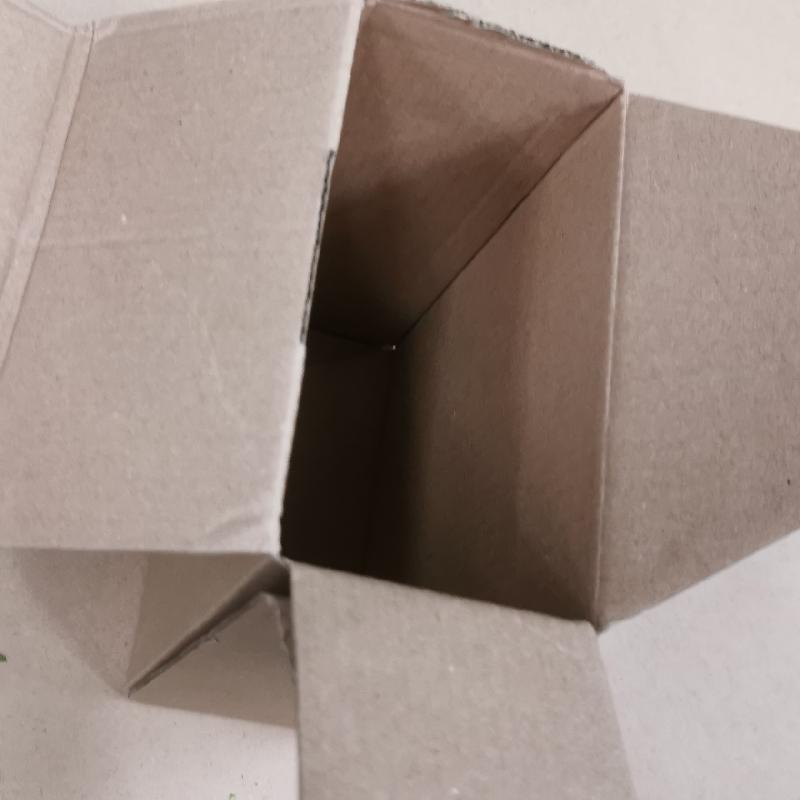boxes: (2, 3, 799, 793)
